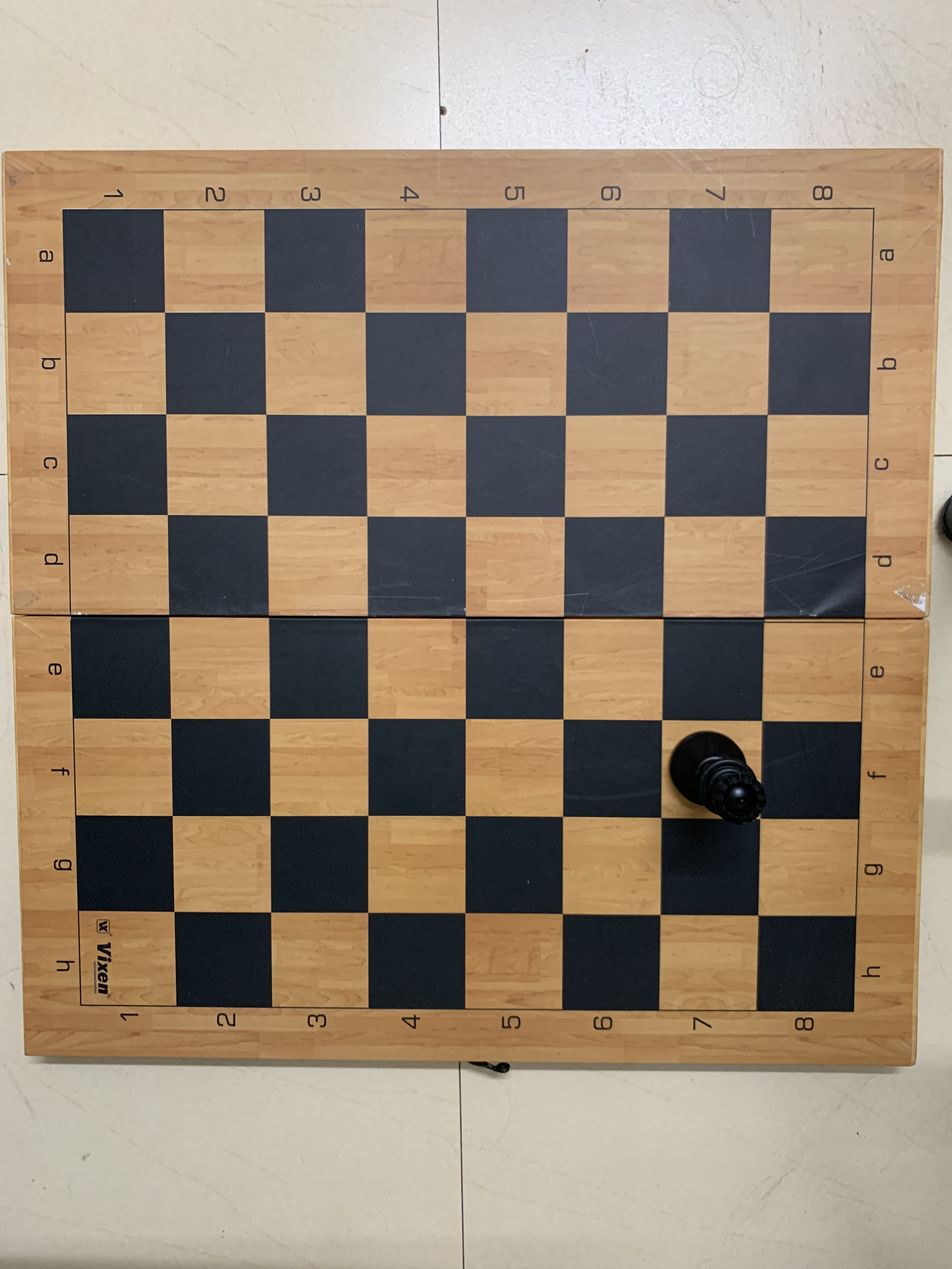black_queen: (661, 721, 771, 825)
